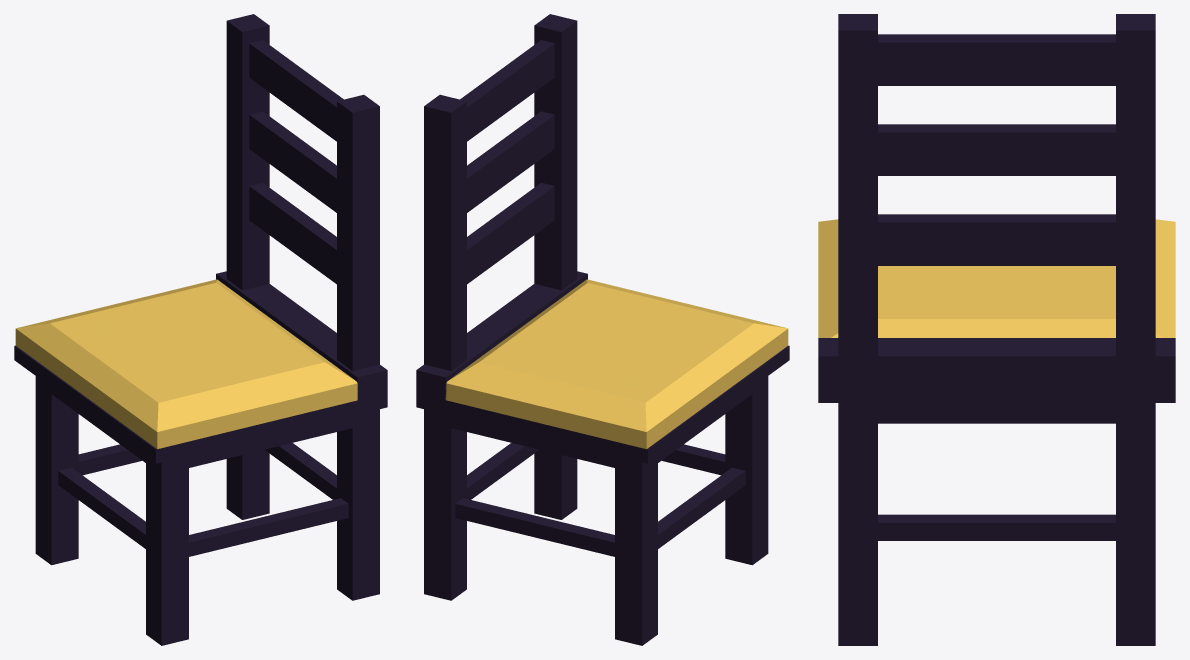
File: cadeira.gltf
The picture shows the model from 3 angles, left to right: view 1: azimuth 30°, elevation 25°; view 2: azimuth 150°, elevation 25°; view 3: azimuth 270°, elevation 25°; orthographic projection. The views are drawn at different scales.
Visible parts, largest first — view 1: cuboid (×15); view 2: cuboid (×15); view 3: cuboid (×11).
Boxes of the visible parts, x1=… form: cuboid (×15): x1=14, y1=14, x2=387, y2=645; cuboid (×15): x1=416, y1=14, x2=789, y2=645; cuboid (×11): x1=818, y1=14, x2=1175, y2=645.
Bounding box in the file's own units: 1.06 × 2.14 × 1.13.
2 materials, 2 textured.
